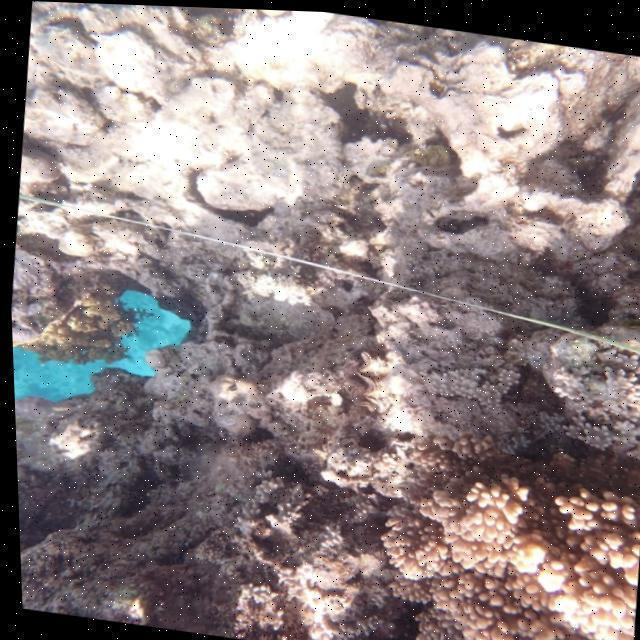Healthy Coral: (371, 462, 640, 640)
